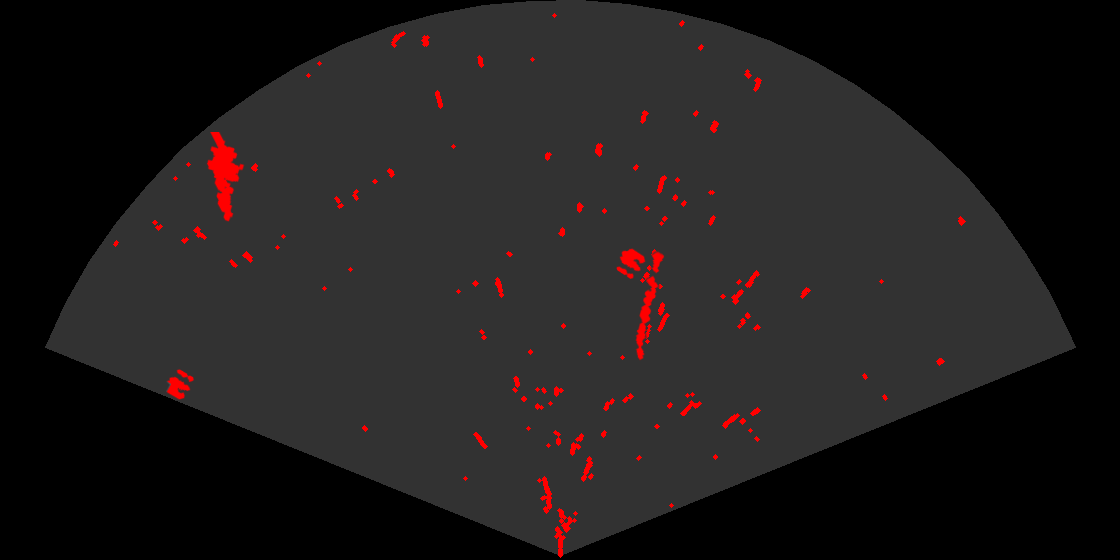ball: (615, 247, 647, 281), (165, 368, 196, 401)
chain: (634, 249, 666, 362)
frogman: (205, 132, 246, 223)
